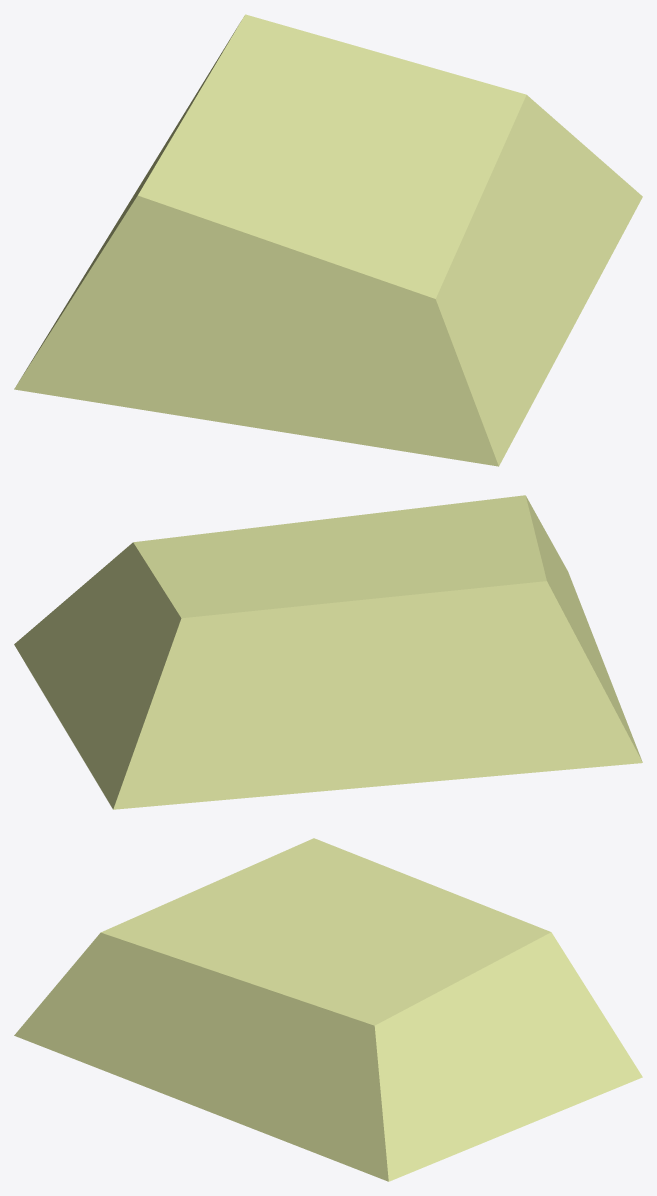
File: Rock_Mesa_Small_3.fbx
3 views of the same model, one above another, from view 1: azimuth 30°, elevation 25°; view 2: azimuth 150°, elevation 25°; view 3: azimuth 270°, elevation 25° (orthographic). The views are drawn at different scales.
Parts seen in each view (by area): view 1: Cube; view 2: Cube; view 3: Cube.
Part boxes in pixels (x1,y1,x2,y2): Cube: (14,14,642,466); Cube: (14,495,642,809); Cube: (14,838,642,1181).
Bounding box in the file's own units: 45.72 × 11.59 × 47.77.
